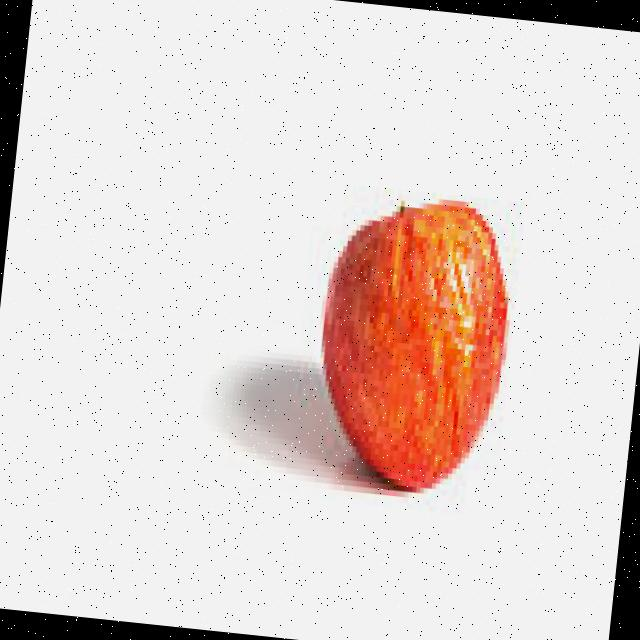overripe: (302, 185, 524, 498)
